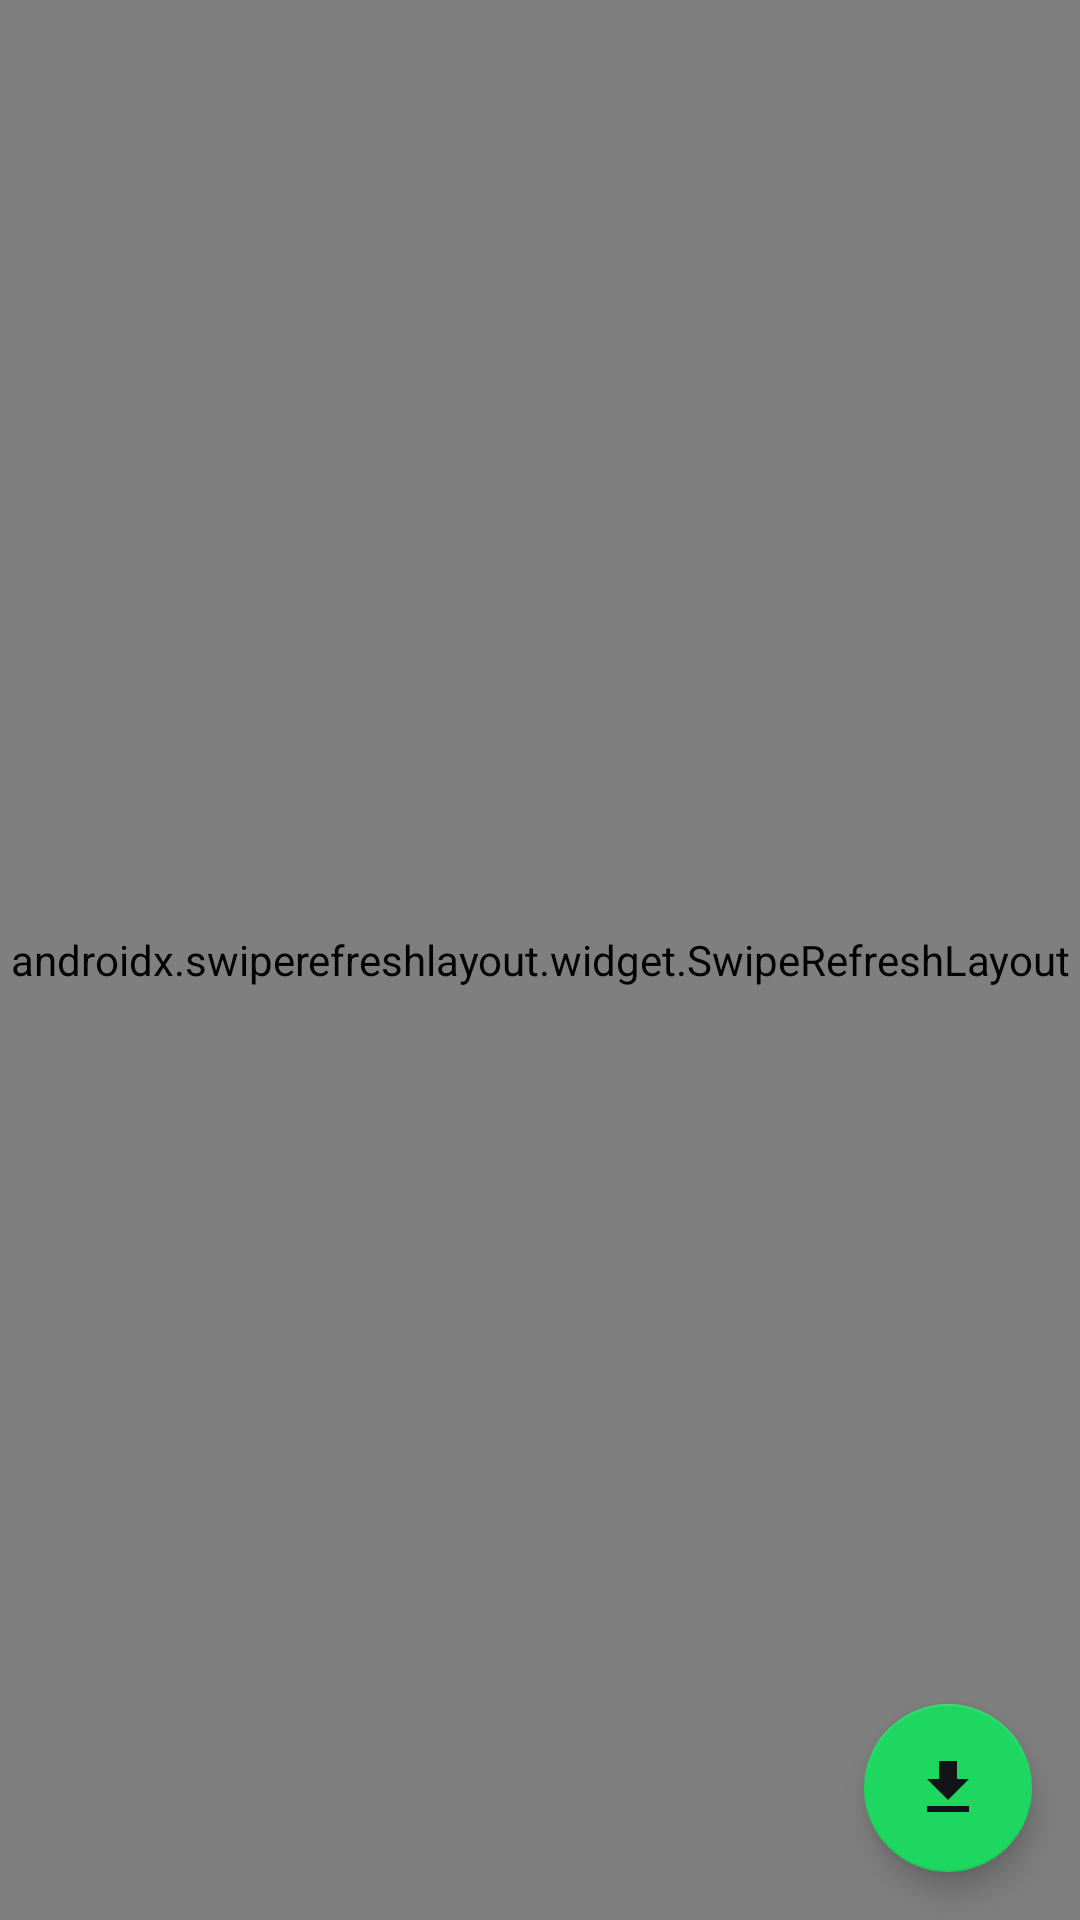

Where to tap for icons on this 1080w x 1920h app screen, as (x=x, y=y):
file download: (x=948, y=1788)
